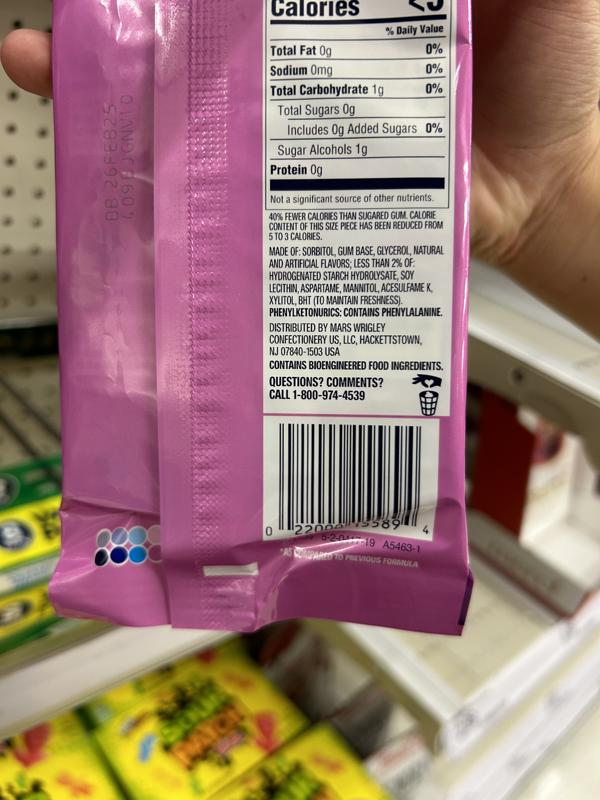ingredients: (267, 244, 451, 305)
